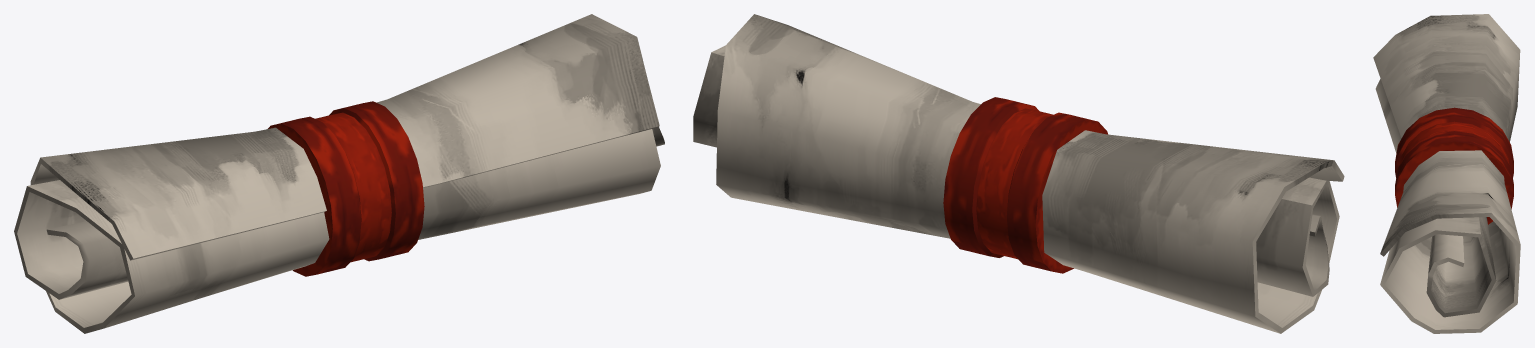
Rendered from Scroll_2.glb.
3 views of the same model, side by side, from view 1: azimuth 30°, elevation 25°; view 2: azimuth 150°, elevation 25°; view 3: azimuth 270°, elevation 25° (orthographic). The views are drawn at different scales.
Visible parts, largest first — view 1: Scroll_2; view 2: Scroll_2; view 3: Scroll_2.
Boxes of the visible parts, <box> form: Scroll_2: <box>14,14,664,333</box>; Scroll_2: <box>693,14,1344,333</box>; Scroll_2: <box>1373,14,1520,333</box>.
Bounding box in the file's own units: 0.2329 × 0.0587 × 0.0637.
Materials: 2 (2 with a texture image).
